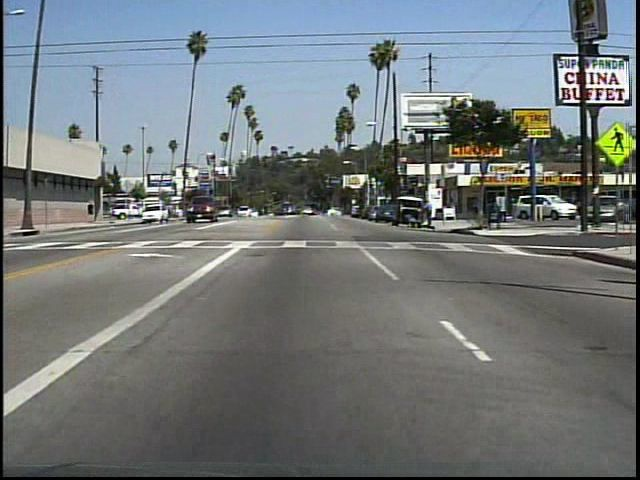person: (423, 197, 437, 230), (467, 193, 481, 221), (405, 213, 423, 231), (87, 199, 96, 227)
